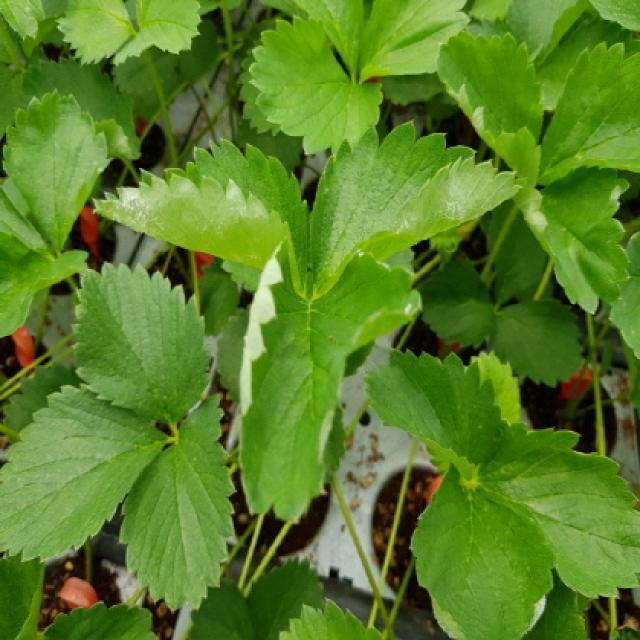powdery_mildew_leaf: (238, 236, 423, 523), (310, 119, 524, 297), (90, 136, 311, 297), (408, 462, 558, 638), (531, 163, 635, 317)
